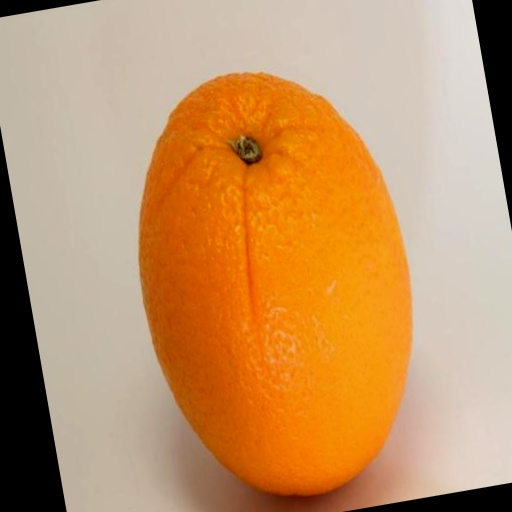fruit: (139, 74, 411, 494)
